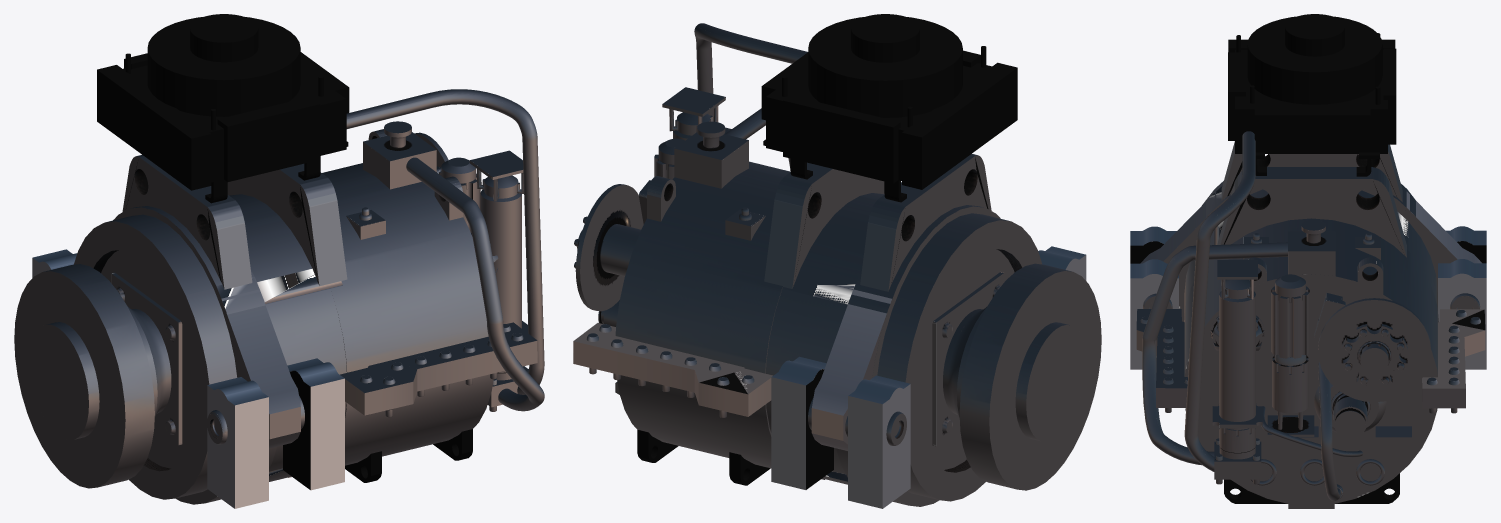
File: fadongji.glb
3 views of the same model, side by side, from view 1: azimuth 30°, elevation 25°; view 2: azimuth 150°, elevation 25°; view 3: azimuth 270°, elevation 25° (orthographic). The views are drawn at different scales.
Parts seen in each view (by area): view 1: 发动机; view 2: 发动机; view 3: 发动机.
Boxes of the visible parts, x1=… form: 发动机: x1=14, y1=14, x2=544, y2=508; 发动机: x1=573, y1=14, x2=1101, y2=508; 发动机: x1=1130, y1=14, x2=1486, y2=508.
Bounding box in the file's own units: 10.3 × 10.31 × 8.38.
44 materials, 42 textured.
